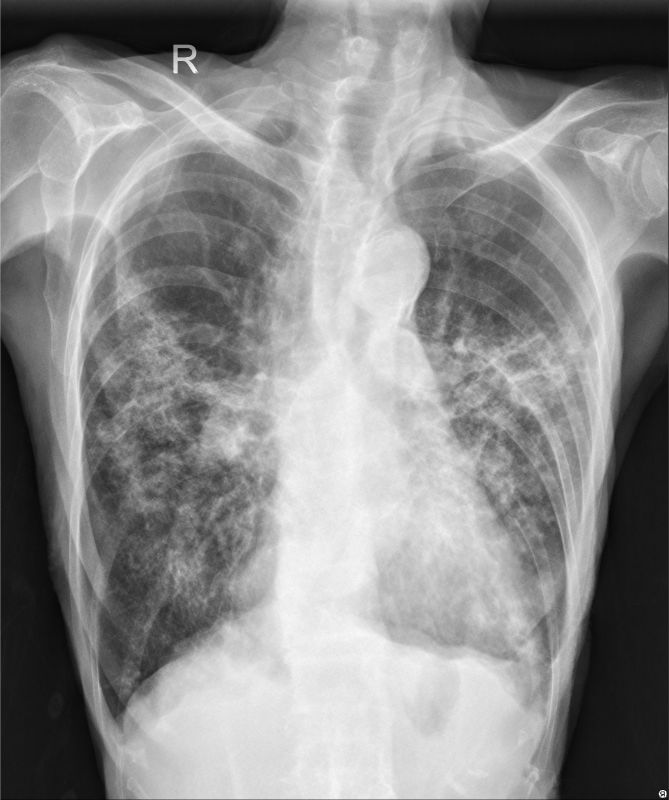Tuberculosis (TB): (97, 273, 212, 605), (477, 302, 598, 479)
